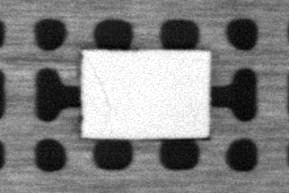DIE_CRACK: (89, 61, 112, 123)
